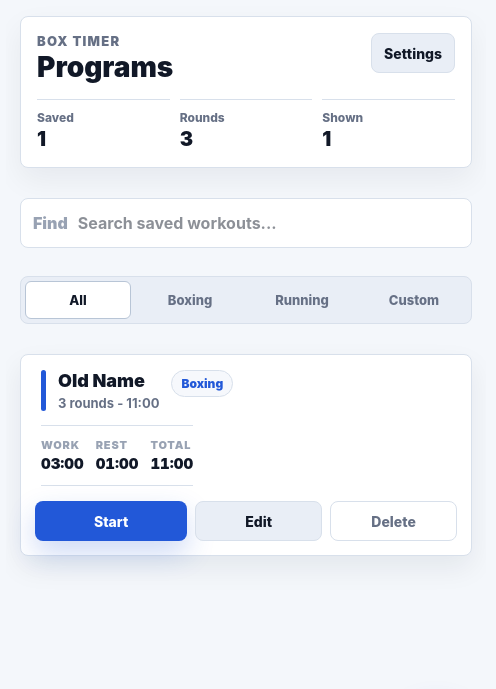
Scenario: SessionEditorScreen › edits an existing session (already loaded in the provider)
Check: the text "Old Name" is shown, box [58,370,159,391]
Click the button "Edit".
click(259, 521)  # box [195,501,322,541]
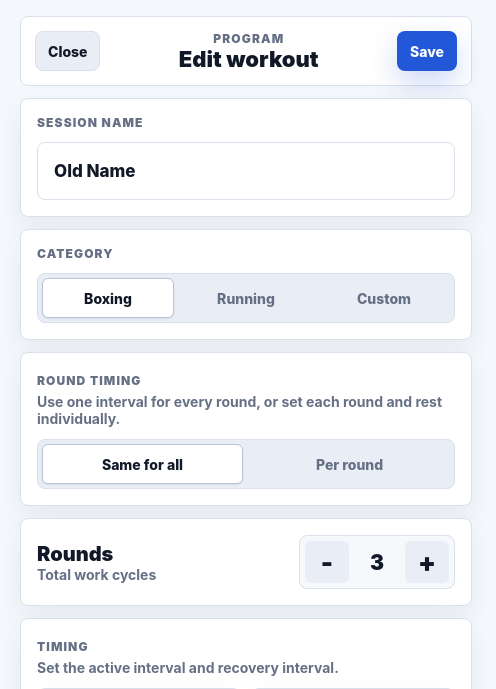
Check: the heading "Edit workout" is shown, box [179,46,319,72]
Replace the text in the field showing "Old Name" with "New Name" at point(246, 171), box [37,142,455,200]
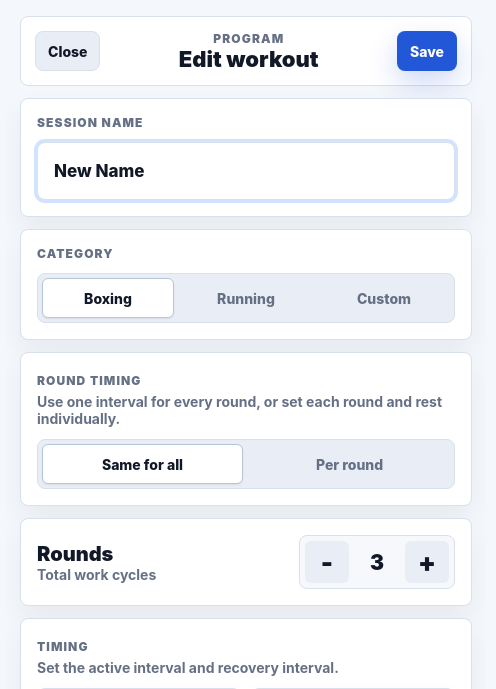
Click the button "Save".
click(427, 51)  # box [397,31,457,71]
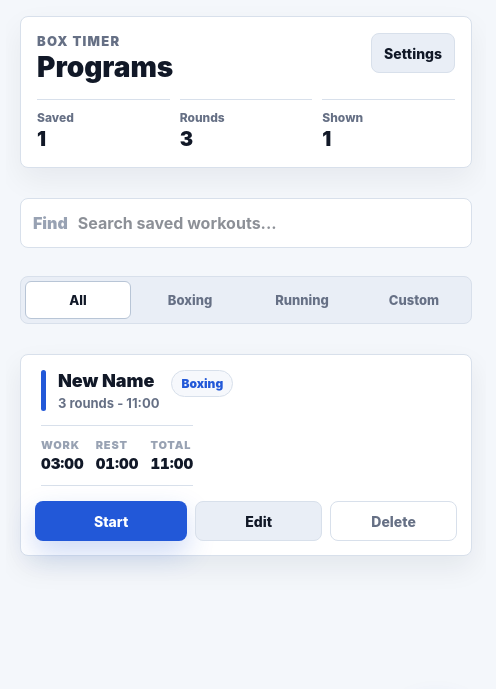
Check: the text "New Name" is shown, box [58,370,159,391]
